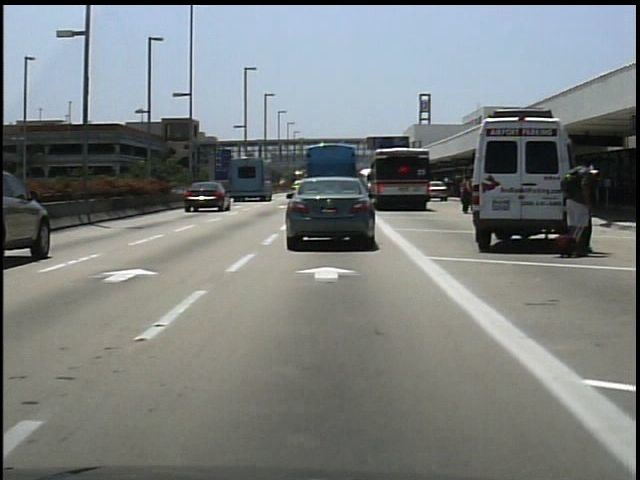person: (564, 154, 596, 261), (592, 166, 604, 252), (457, 171, 476, 218)
